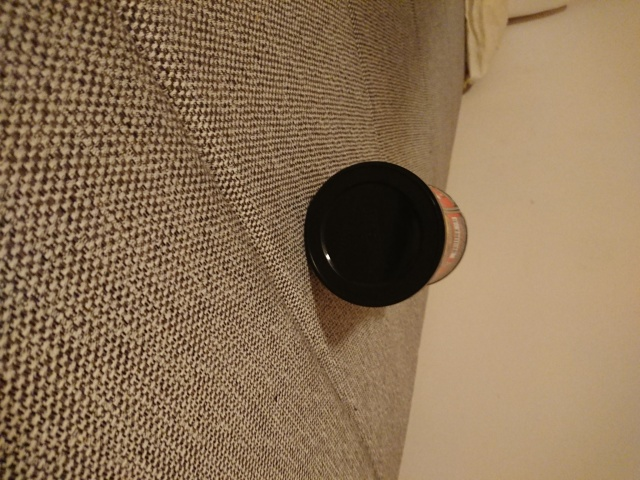Nescafe Classic 225g: (300, 157, 471, 312)
